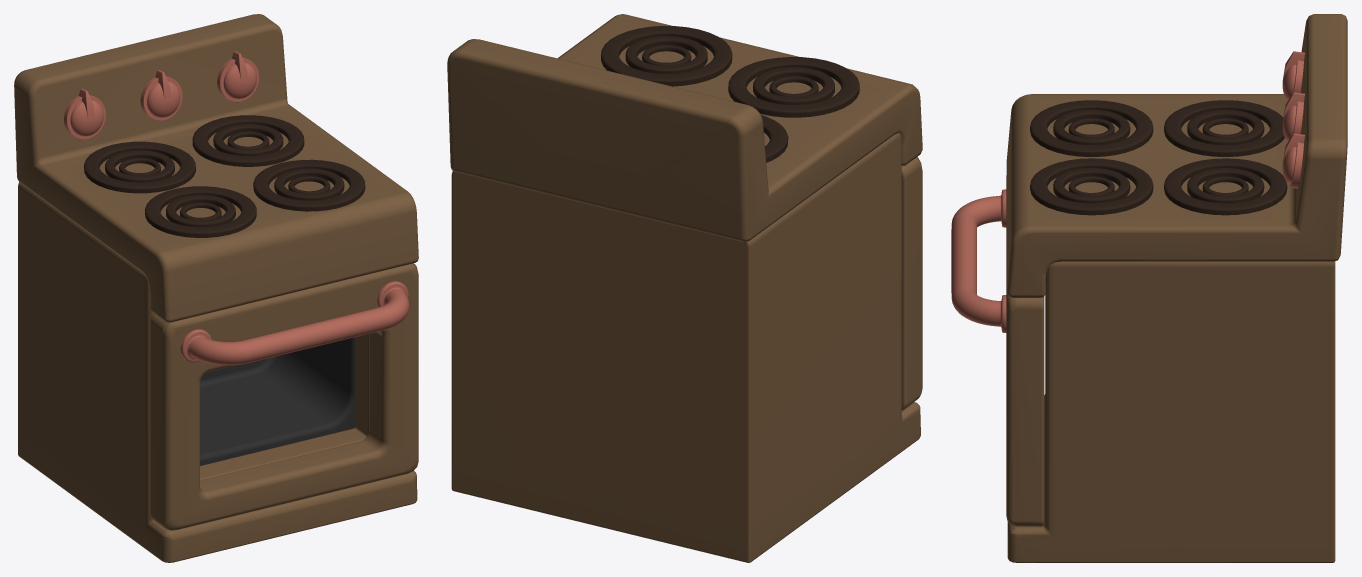
Rendered from SM_Oven_01.fbx.
The picture shows the model from 3 angles, left to right: view 1: azimuth 30°, elevation 25°; view 2: azimuth 150°, elevation 25°; view 3: azimuth 270°, elevation 25°; orthographic projection. The views are drawn at different scales.
Visible parts, largest first — view 1: Cube.044, Cube.046, Cube.049, Cylinder.009, Cube.045, Torus, Sphere.004, Sphere.005, Sphere.006; view 2: Cube.046, Cube.044, Cylinder.009, Cube.049; view 3: Cube.046, Cube.044, Cylinder.009, Cube.049, Torus, Sphere.005, Sphere.004, Sphere.006.
Part boxes in pixels (<box>): Cube.044: <box>14,14,418,322</box>; Cube.046: <box>18,182,417,562</box>; Cube.049: <box>150,263,418,530</box>; Cylinder.009: <box>84,115,365,237</box>; Cube.045: <box>200,337,355,465</box>; Torus: <box>180,281,409,365</box>; Sphere.004: <box>140,70,182,120</box>; Sphere.005: <box>217,51,259,102</box>; Sphere.006: <box>64,88,105,139</box>; Cube.046: <box>451,133,920,562</box>; Cube.044: <box>447,14,922,241</box>; Cylinder.009: <box>601,26,859,162</box>; Cube.049: <box>901,157,922,410</box>; Cube.046: <box>1007,261,1335,562</box>; Cube.044: <box>1006,14,1347,297</box>; Cylinder.009: <box>1030,100,1287,215</box>; Cube.049: <box>1006,175,1044,526</box>; Torus: <box>951,189,1006,332</box>; Sphere.005: <box>1282,133,1304,188</box>; Sphere.004: <box>1282,92,1304,141</box>; Sphere.006: <box>1282,51,1304,100</box>.
Size of the model in its own units: 99.78 by 143 by 122.
